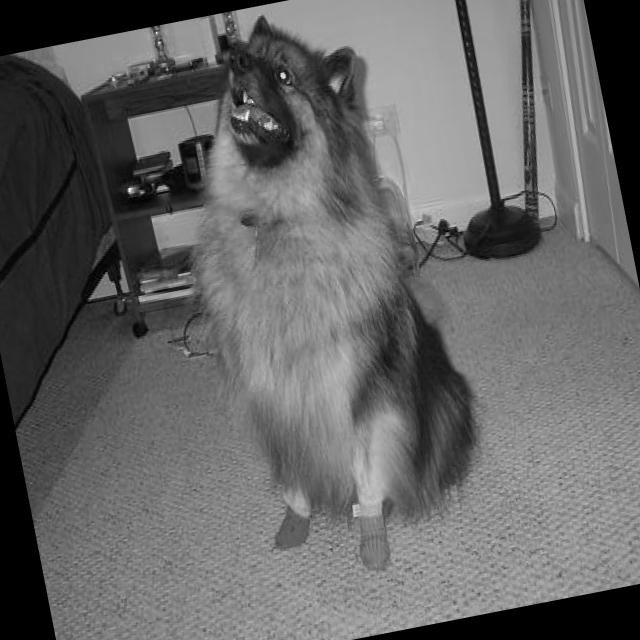sitting: (136, 0, 506, 601)
